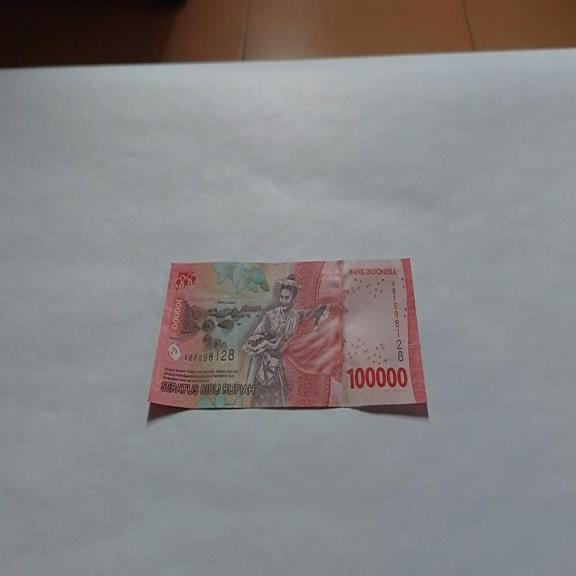Kertas: (146, 255, 429, 420), (346, 363, 408, 391)
